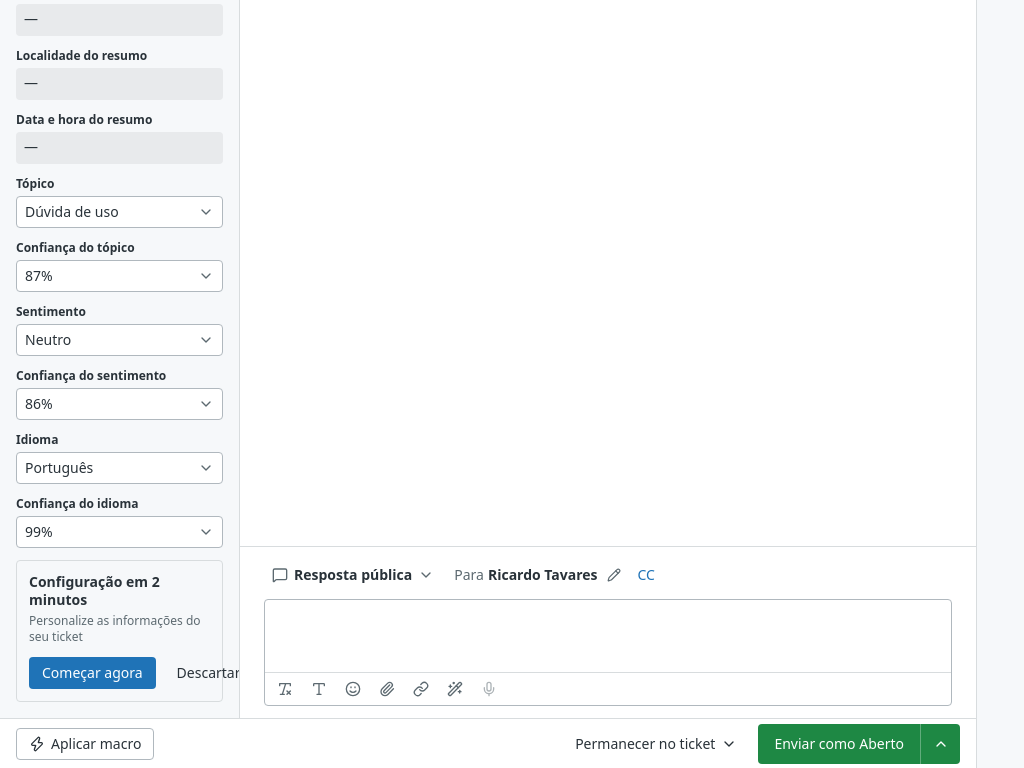
Test case: BottomBar: envio › ticket existente não oferece "Novo"; ticket novo oferece
(page scrolled)
Check: the button "Enviar como Aberto" is shown, box [758, 724, 920, 764]
Click the button named "Escolher status de envio". click: (940, 744)
box: [920, 724, 960, 764]
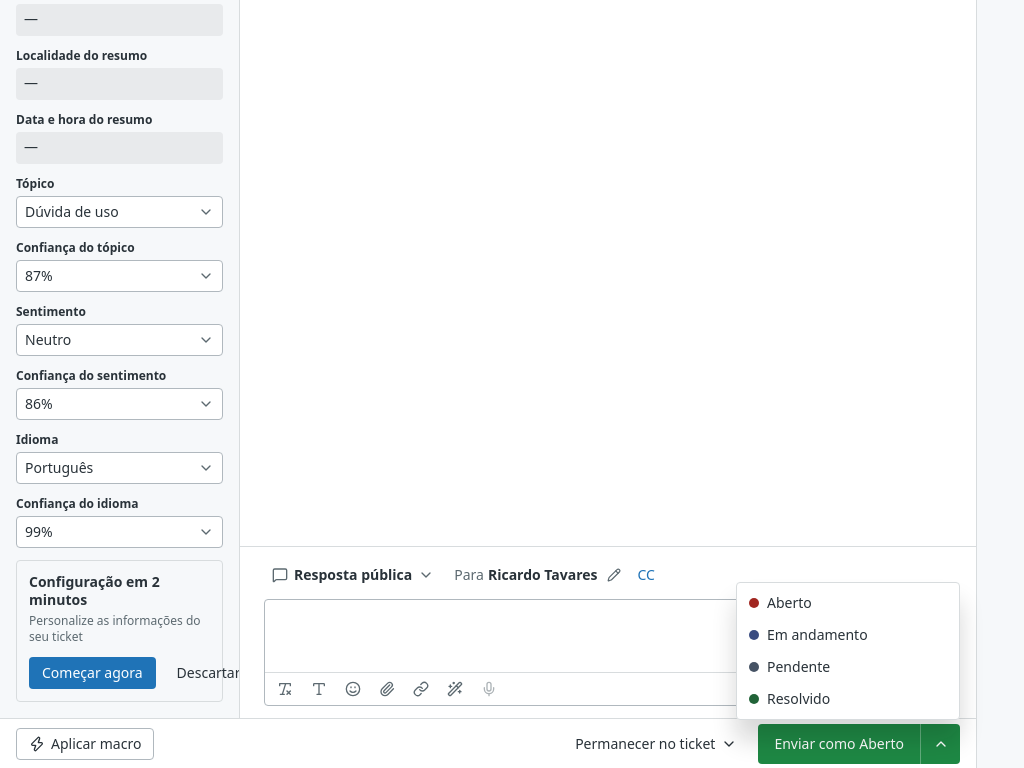
Check: the menu items read "Aberto", "Em andamento", "Pendente", "Resolvido", in this order, box [749, 593, 812, 612]; [749, 625, 868, 644]; [749, 657, 830, 676]; [749, 689, 830, 708]
